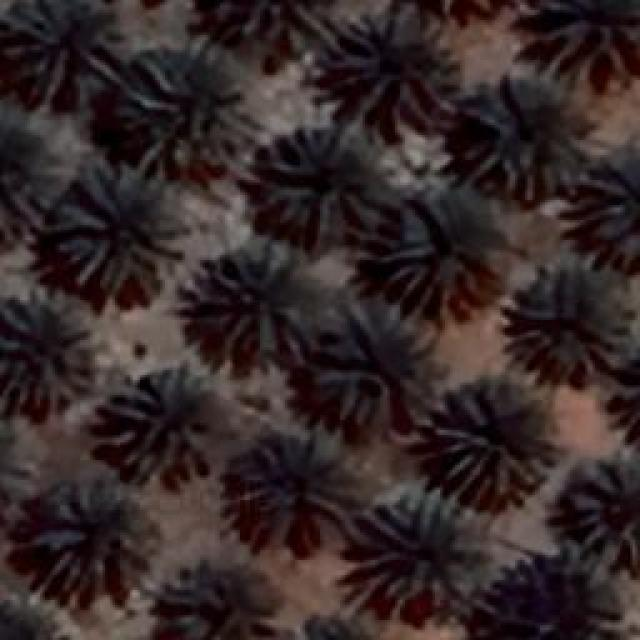PalmTree: (50, 162, 188, 308), (115, 47, 260, 175), (348, 490, 490, 612), (427, 375, 555, 510), (325, 10, 465, 130), (502, 255, 632, 383), (375, 182, 503, 312), (315, 302, 443, 430), (190, 240, 320, 365), (92, 362, 218, 482), (462, 70, 576, 200), (32, 478, 158, 592), (262, 125, 382, 240), (2, 0, 122, 102), (240, 430, 358, 530), (481, 554, 617, 640), (0, 290, 95, 412), (155, 552, 275, 638), (555, 450, 635, 570), (520, 0, 638, 80), (198, 0, 316, 70), (0, 119, 48, 254), (587, 170, 640, 270), (1, 414, 46, 528), (601, 350, 640, 450), (403, 0, 520, 28), (0, 595, 64, 640), (292, 608, 382, 640)
